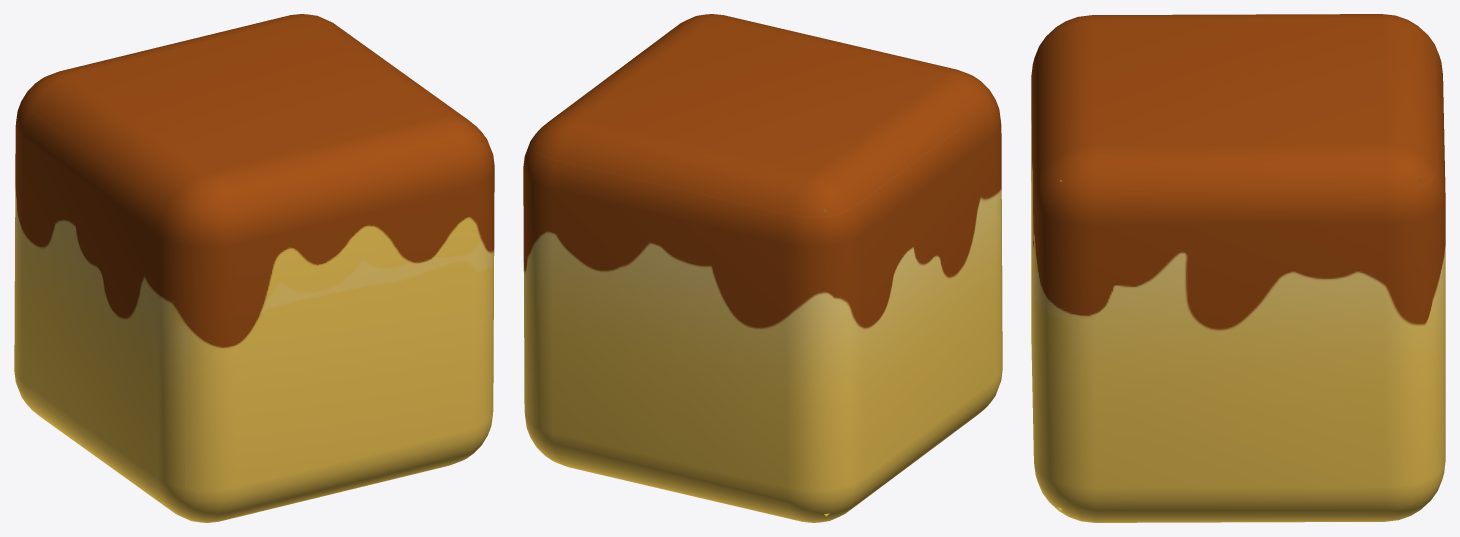
File: block_pudding.fbx
3 renders of one model, left to right at view 1: azimuth 30°, elevation 25°; view 2: azimuth 150°, elevation 25°; view 3: azimuth 270°, elevation 25°, orthographic. The views are drawn at different scales.
Visible parts, largest first — view 1: 큐브; view 2: 큐브; view 3: 큐브.
Boxes of the visible parts, left/top/right/bottom form: 큐브: left=14, top=14, right=494, bottom=522; 큐브: left=523, top=14, right=1002, bottom=522; 큐브: left=1031, top=14, right=1445, bottom=522.
Bounding box in the file's own units: 30703 × 30518 × 30592.
1 material, 1 textured.
